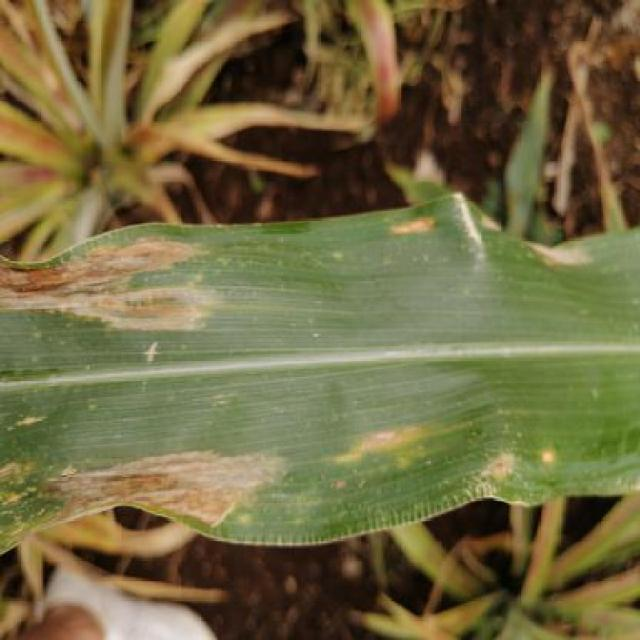Corn_Leaf_Blight: (0, 192, 640, 552)
